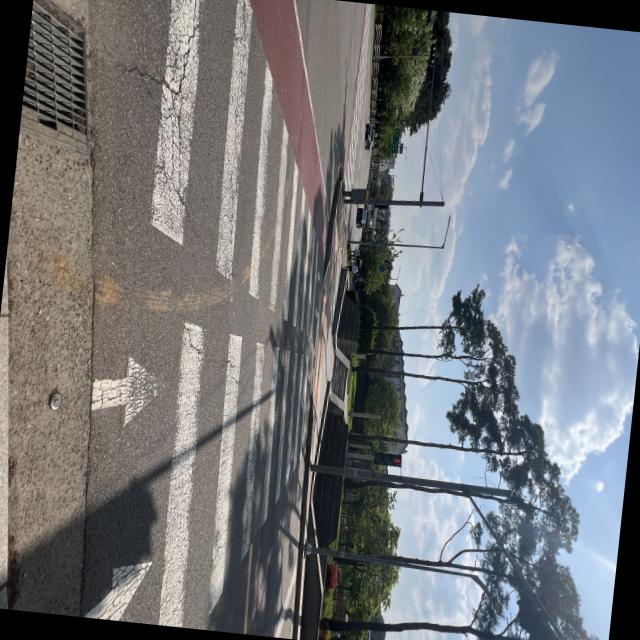red_light: (364, 450, 401, 470)
zebra: (52, 0, 373, 640)
